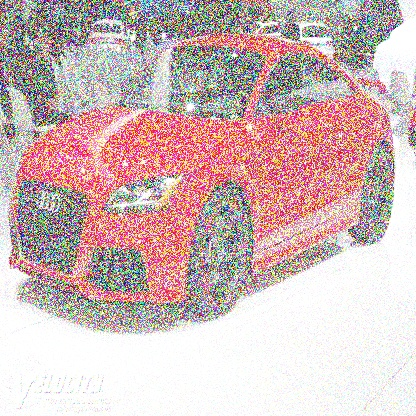Vehicle: (5, 31, 398, 321)
